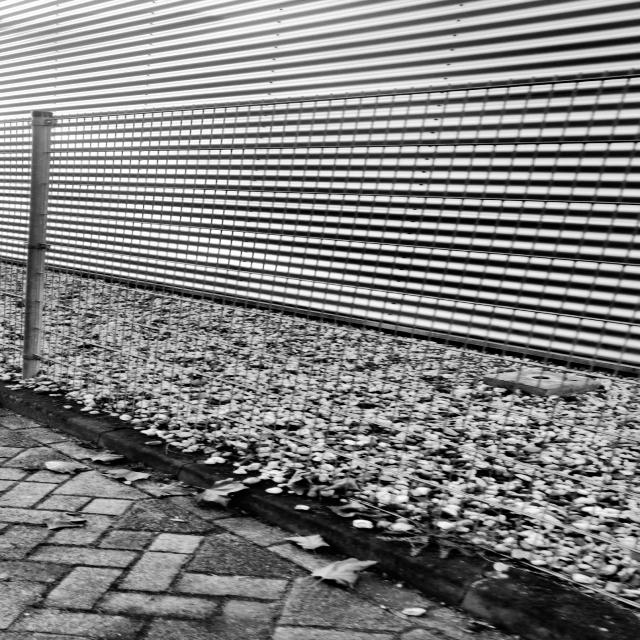fences: (13, 97, 640, 558)
